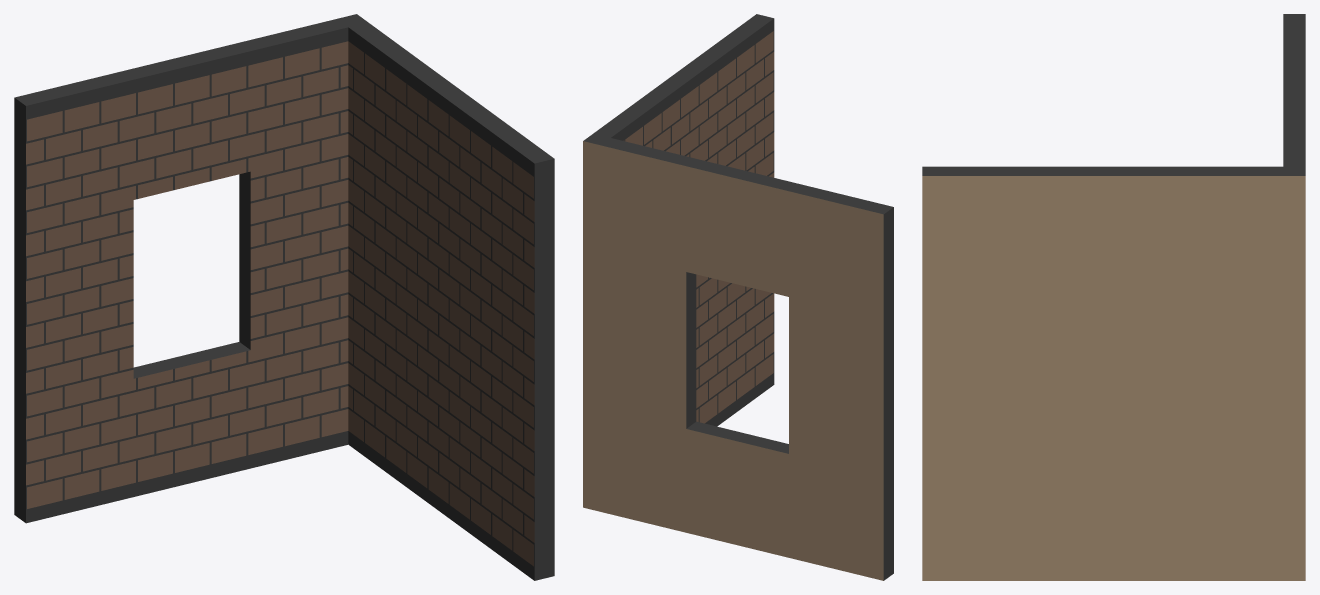
Rendered from Wall3_C10_07.fbx.
3 views of the same model, side by side, from view 1: azimuth 30°, elevation 25°; view 2: azimuth 150°, elevation 25°; view 3: azimuth 270°, elevation 25° (orthographic). The views are drawn at different scales.
Parts seen in each view (by area): view 1: Wall3_C10_07; view 2: Wall3_C10_07; view 3: Wall3_C10_07.
Boxes of the visible parts, x1,y1,x2,y2 form: Wall3_C10_07: (14,14,554,580); Wall3_C10_07: (583,14,893,580); Wall3_C10_07: (922,14,1305,580).
Size of the model in its own units: 258 by 300 by 258.
